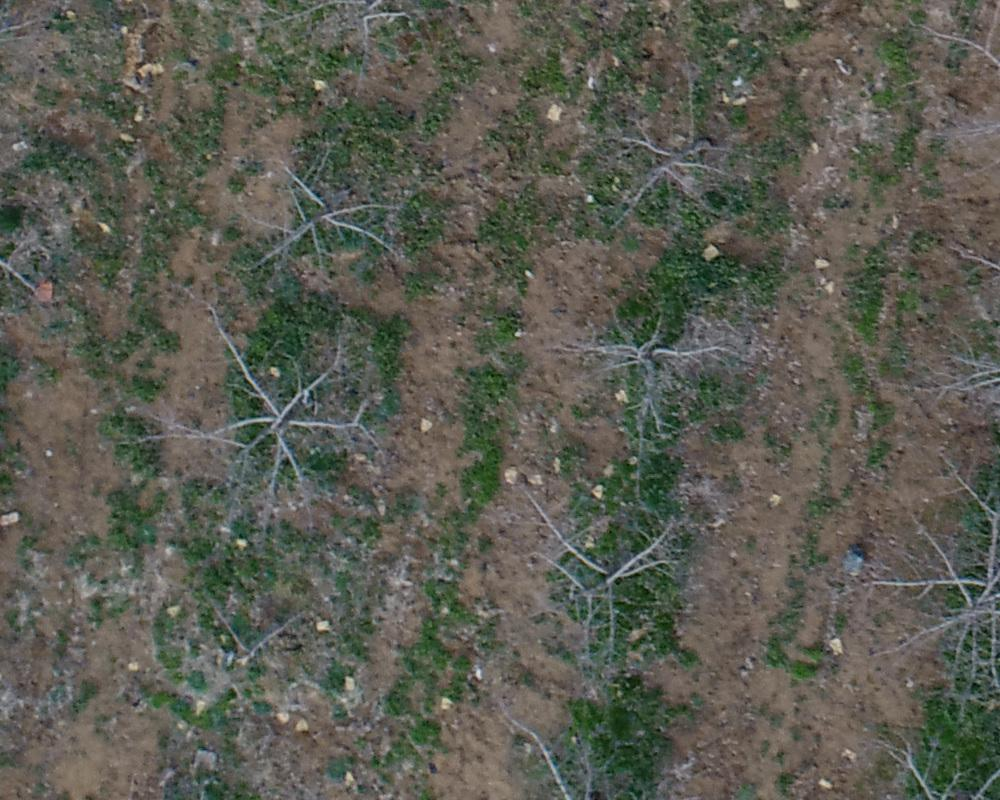apple: (124, 291, 398, 541), (497, 484, 715, 670), (552, 288, 768, 463), (839, 463, 990, 698), (231, 139, 422, 296), (581, 86, 780, 234), (228, 10, 454, 100), (171, 577, 329, 696)
